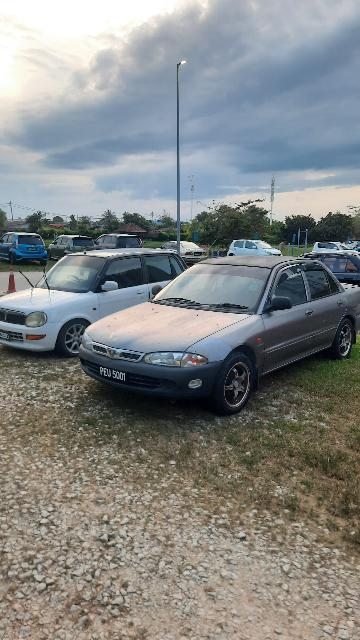License_Plate: (98, 364, 141, 387)
car: (82, 256, 360, 416)
